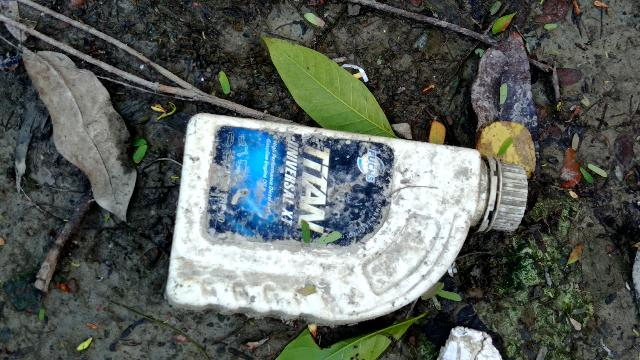bottle: (182, 102, 525, 326)
